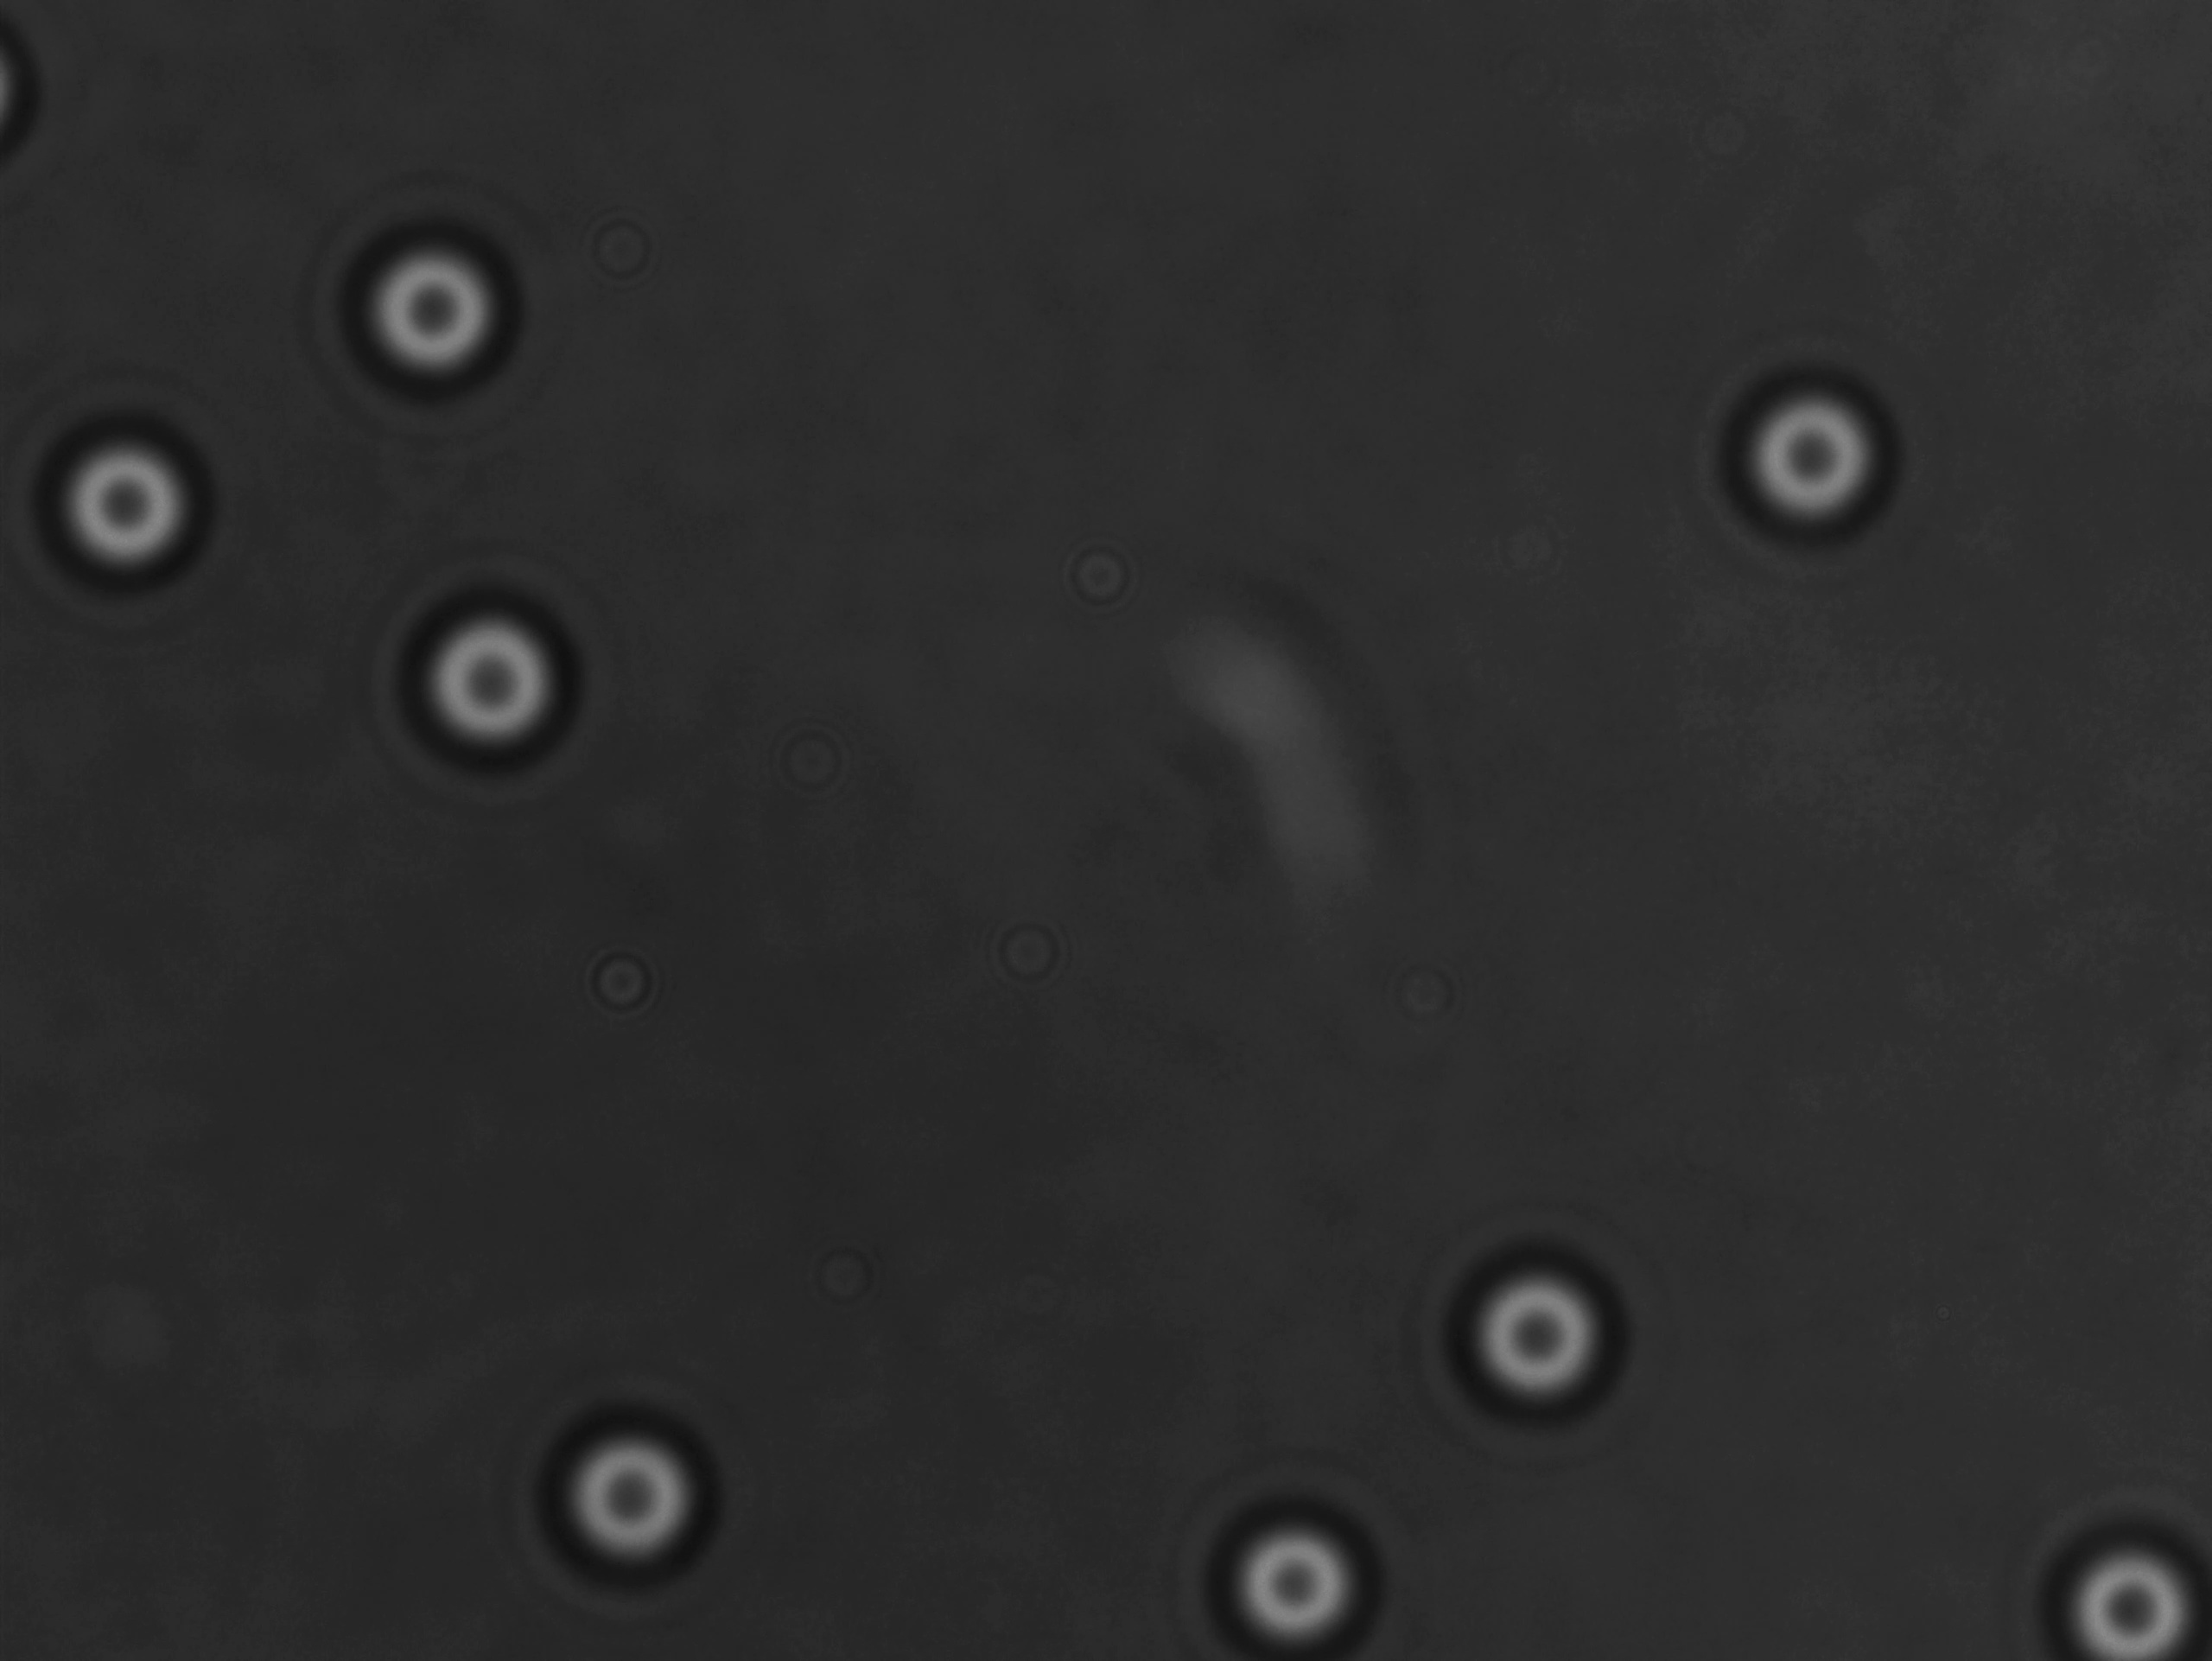depth:80: (324, 195, 562, 415), (368, 574, 605, 792), (1718, 345, 1926, 562), (520, 1392, 736, 1595), (1434, 1234, 1654, 1429), (31, 393, 239, 595), (1191, 1490, 1394, 1661), (2025, 1488, 2212, 1661)
